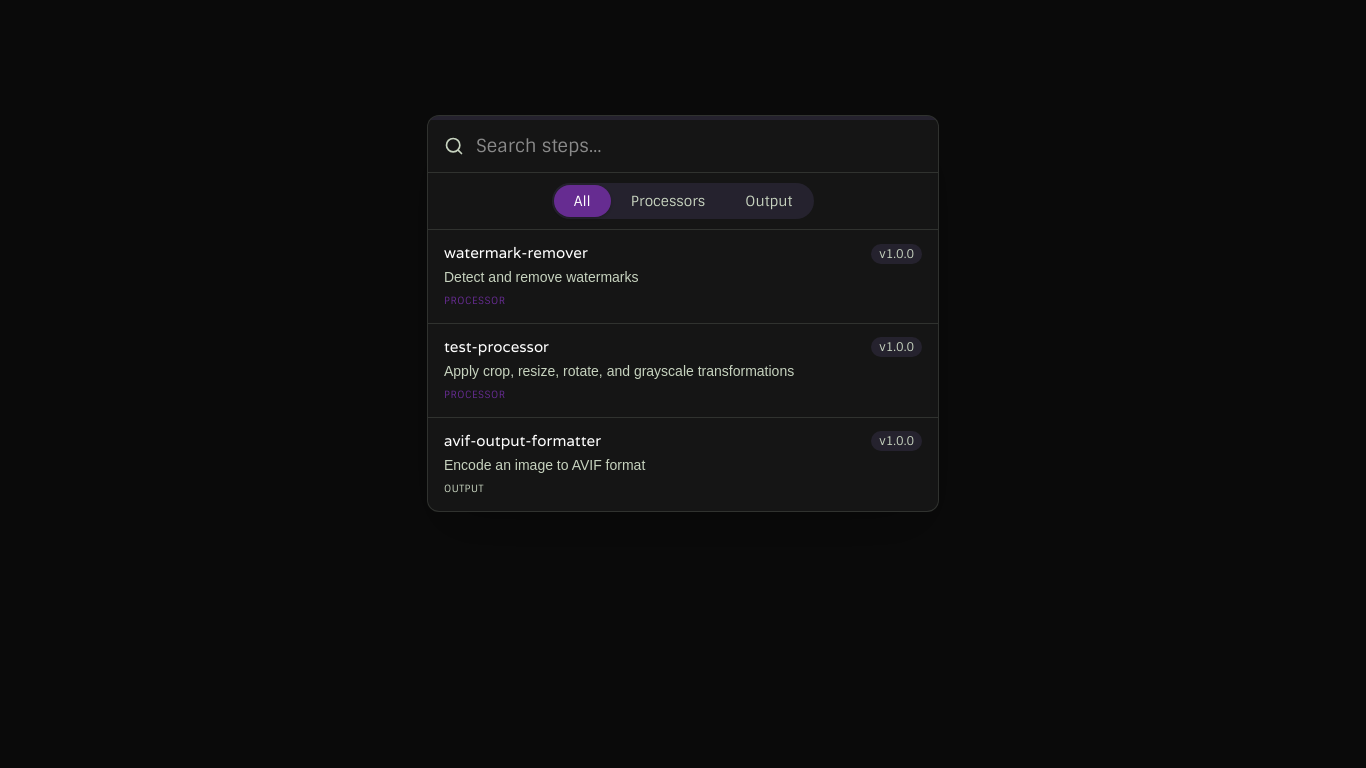
Test: StepSearch › filters to output only when Output pill is clicked
Expected: the text "watermark-remover" is shown, [444,242,588,265]
Click the radio button labelled "Output" at (769, 201), box [725,185,812,217]
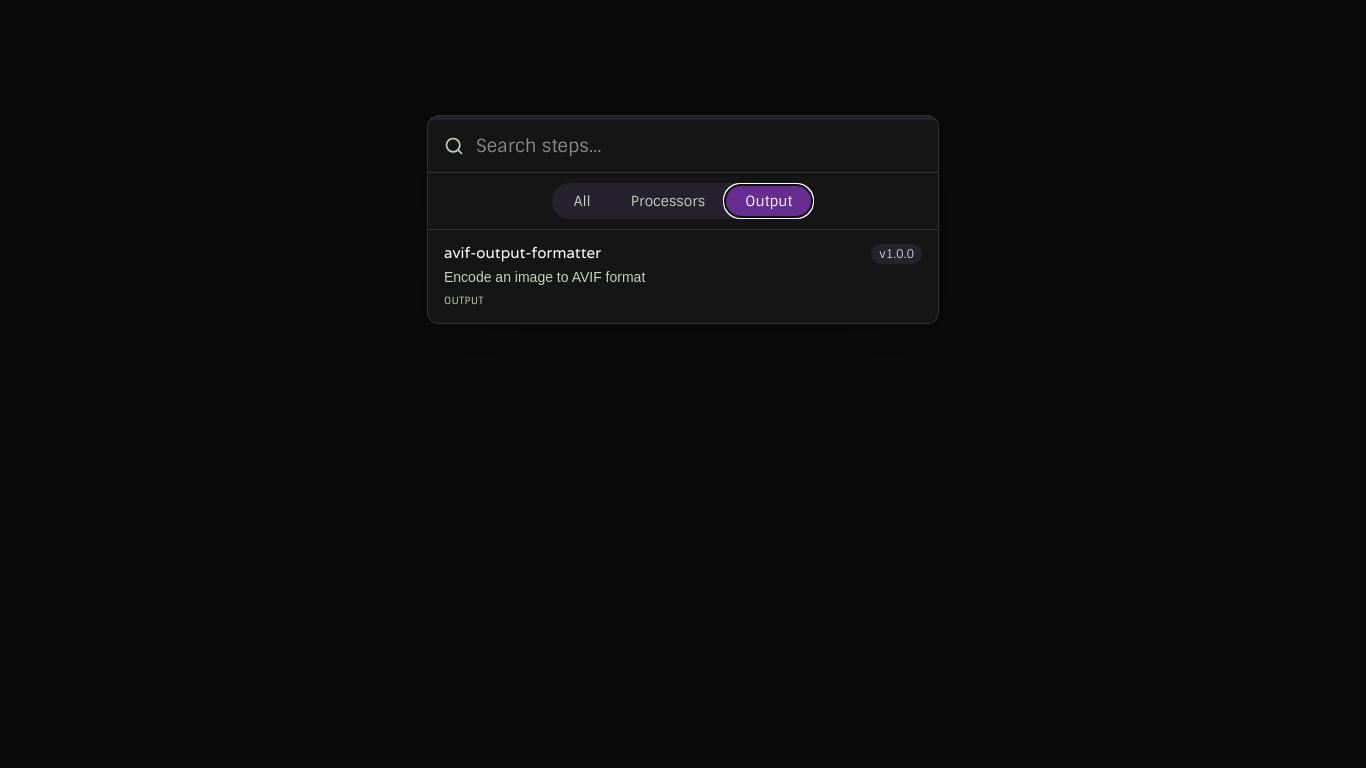
Expected: the text "avif-output-formatter" is shown, [444,242,601,265]
Expected: the button "watermark-remover" is gone
Expected: the button "test-processor" is gone
